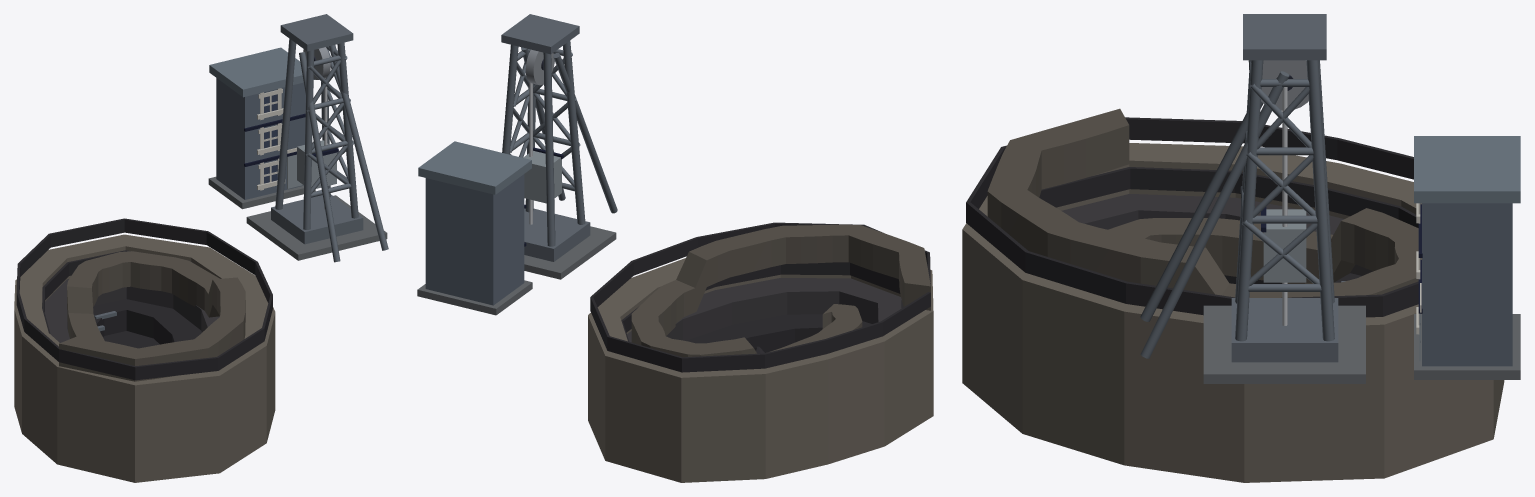
File: mine_flush_lvl2.glb
The picture shows the model from 3 angles, left to right: view 1: azimuth 30°, elevation 25°; view 2: azimuth 150°, elevation 25°; view 3: azimuth 270°, elevation 25°; orthographic projection. The views are drawn at different scales.
Visible parts, largest first — view 1: mine_flush; view 2: mine_flush; view 3: mine_flush.
Part boxes in pixels (x1,y1,x2,y2): mine_flush: [14, 14, 388, 482]; mine_flush: [417, 14, 933, 482]; mine_flush: [962, 14, 1520, 482].
Bounding box in the file's own units: 0.8818 × 0.7562 × 0.7576.
